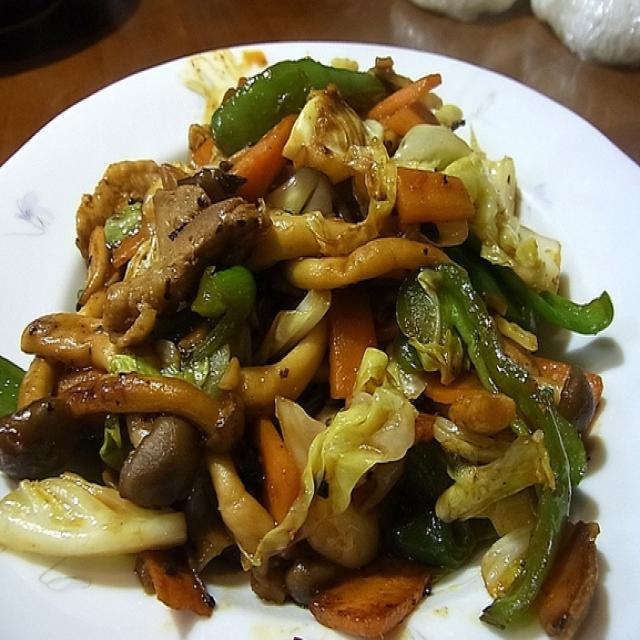猪肉菜式: (36, 64, 611, 624)
